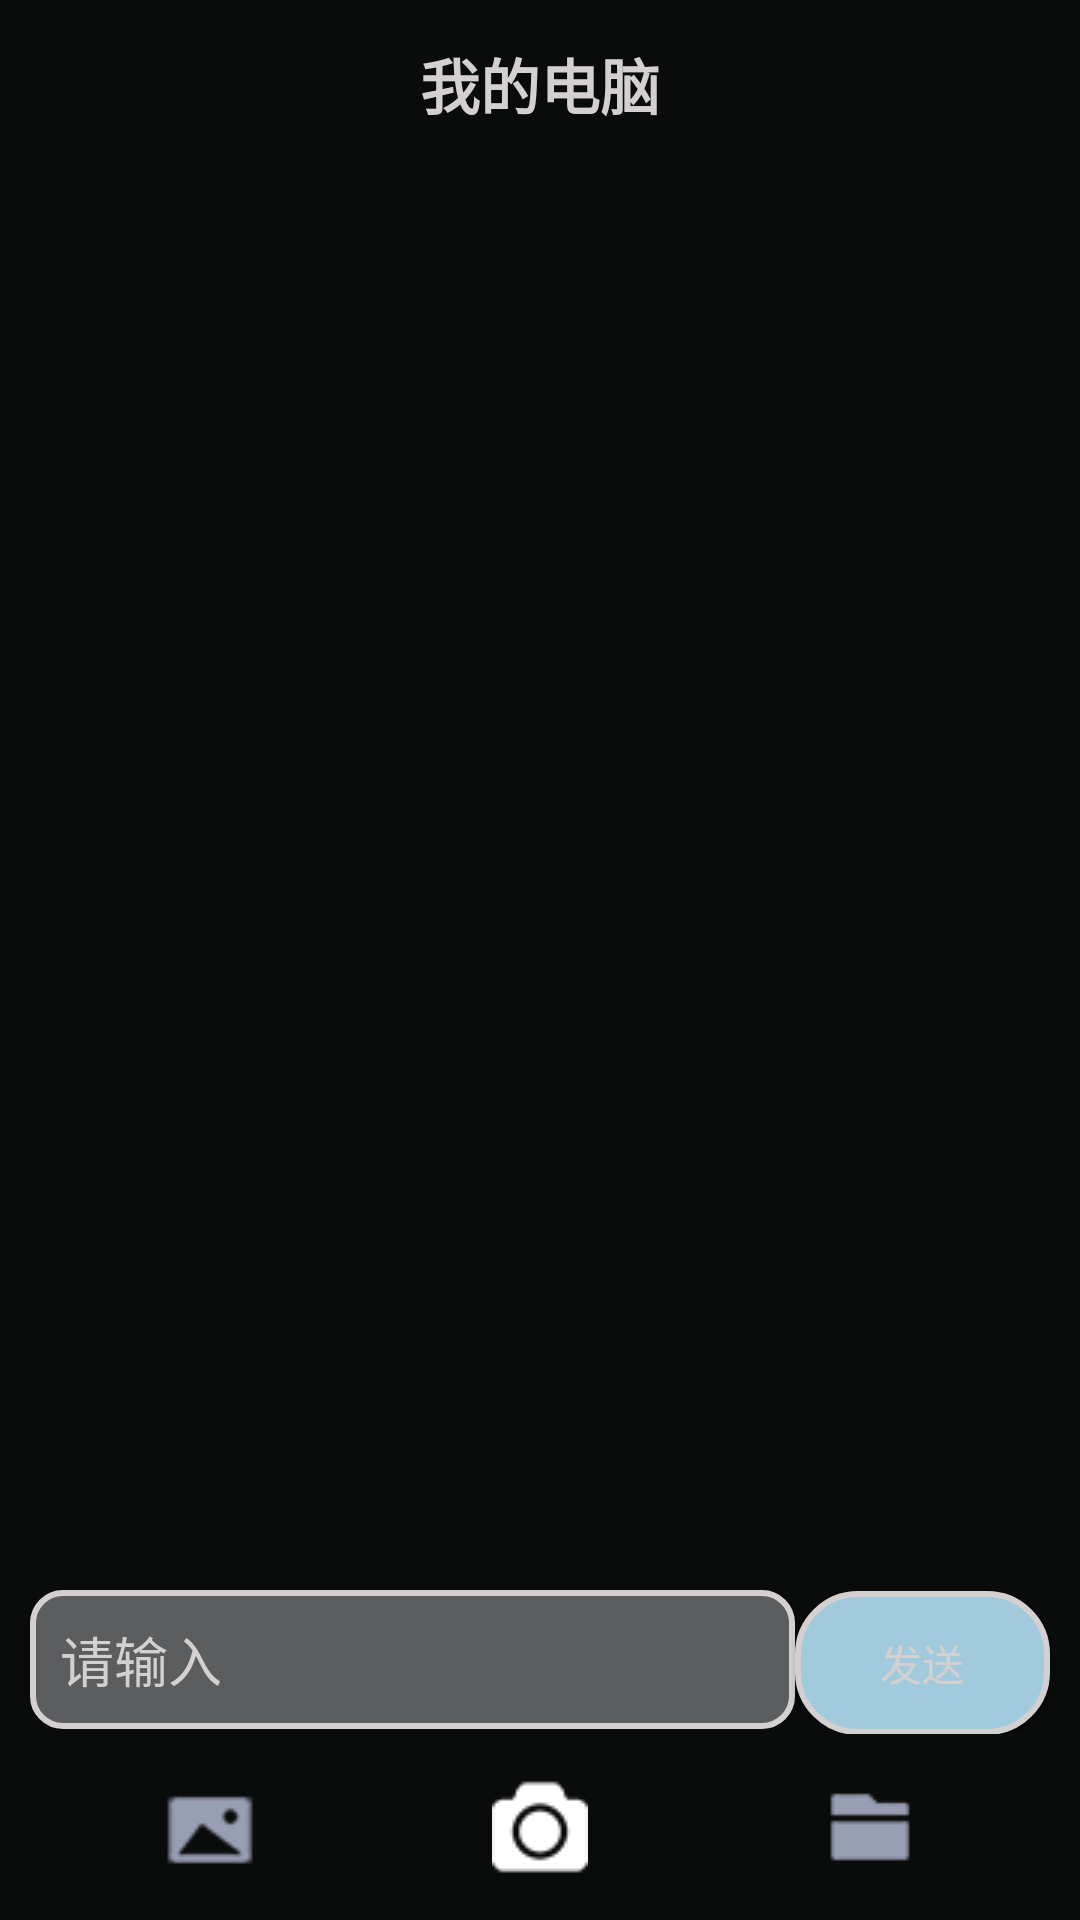

Screen size 1080 × 1920. Icon name, then its box in pixels as (x1, y1, x2, y2):
camera: (492, 1781, 588, 1873)
file: (830, 1793, 910, 1861)
